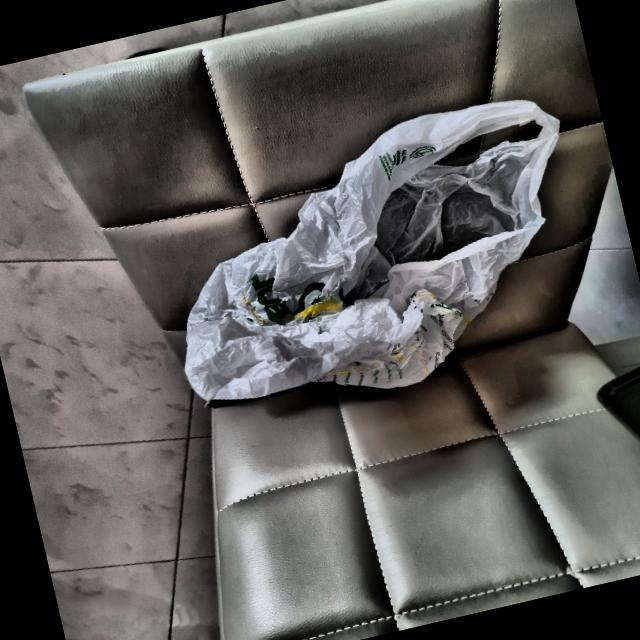plastic bag: (122, 58, 624, 460)
